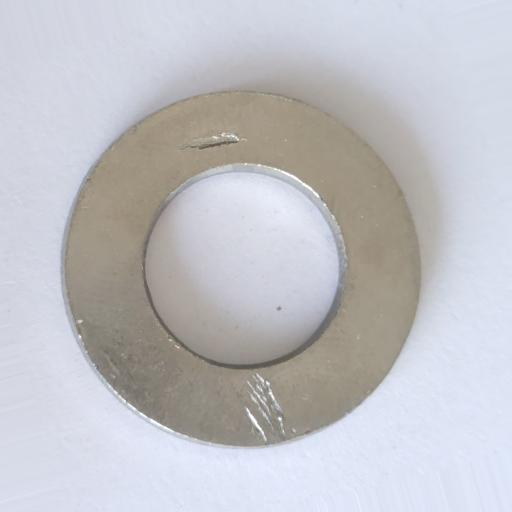scratch: (243, 371, 285, 444), (180, 132, 243, 150)
